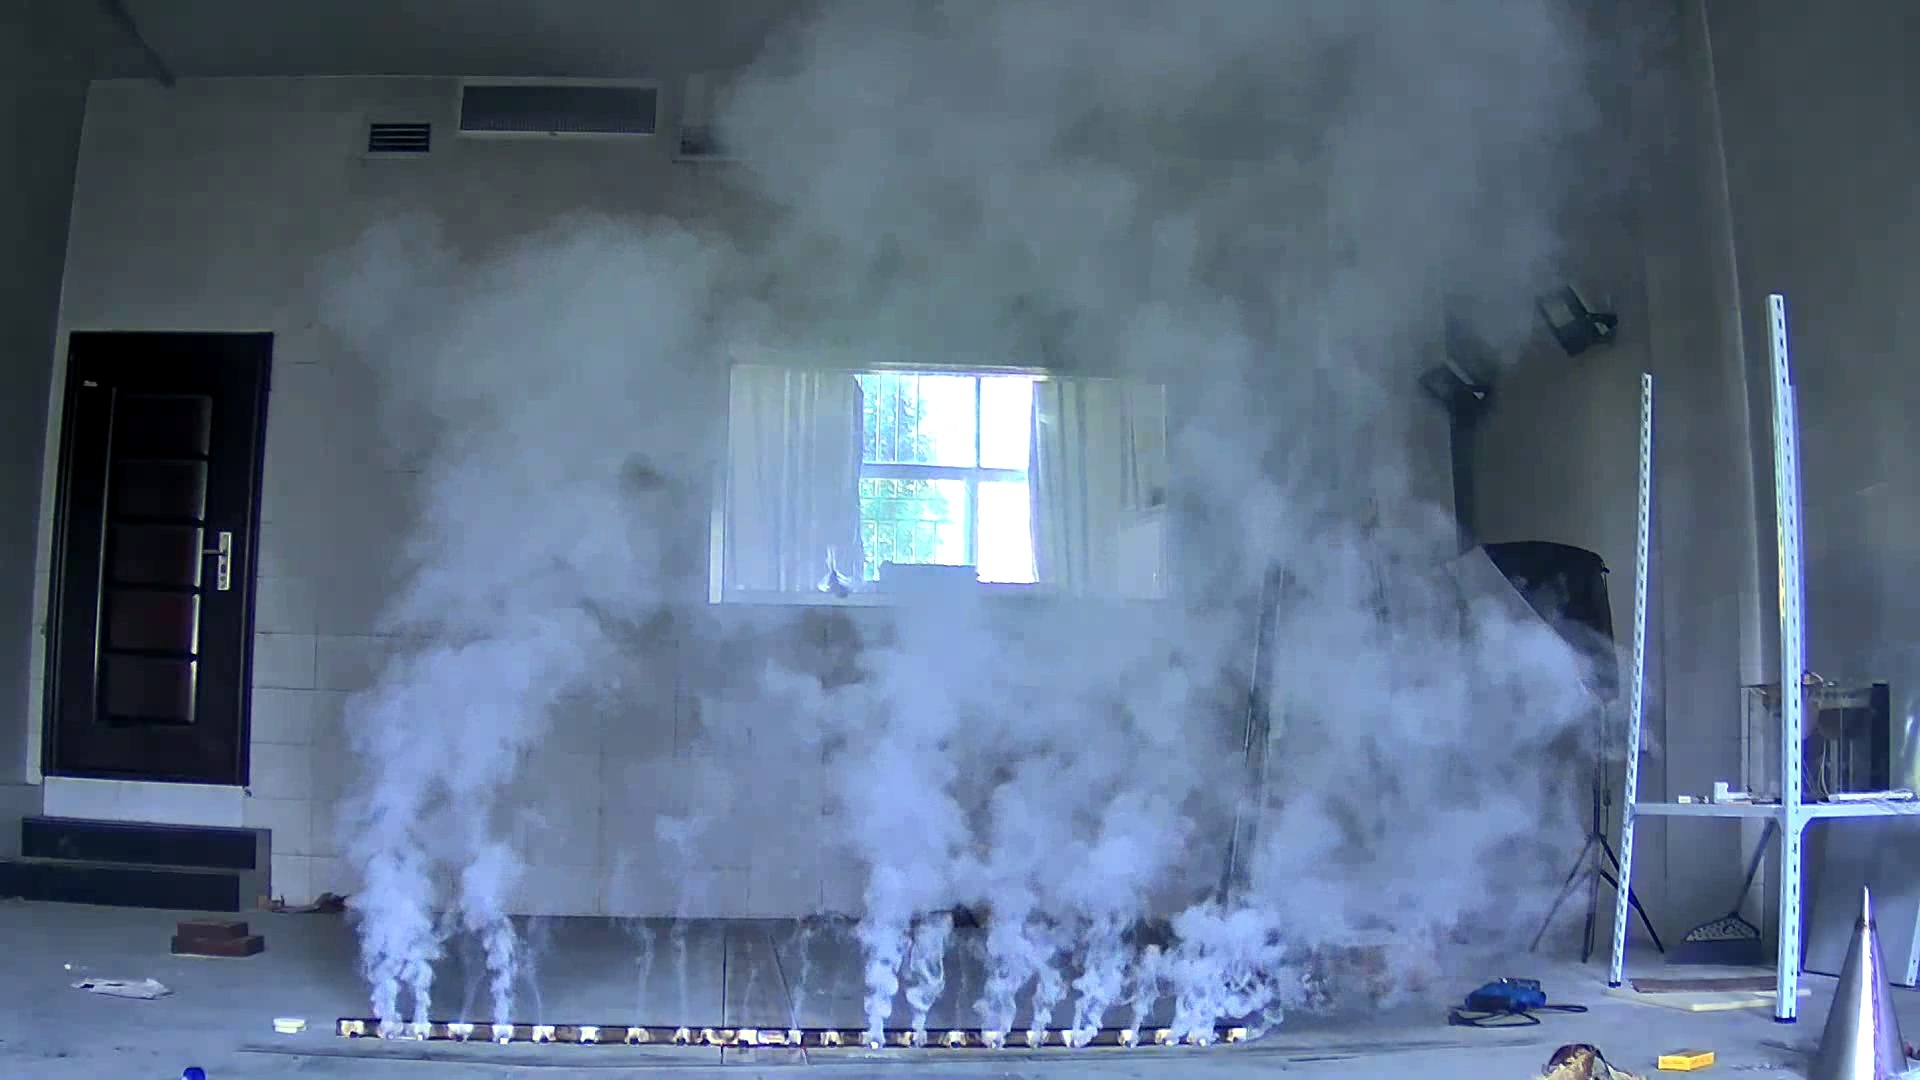smoke: (277, 207, 1598, 1022)
